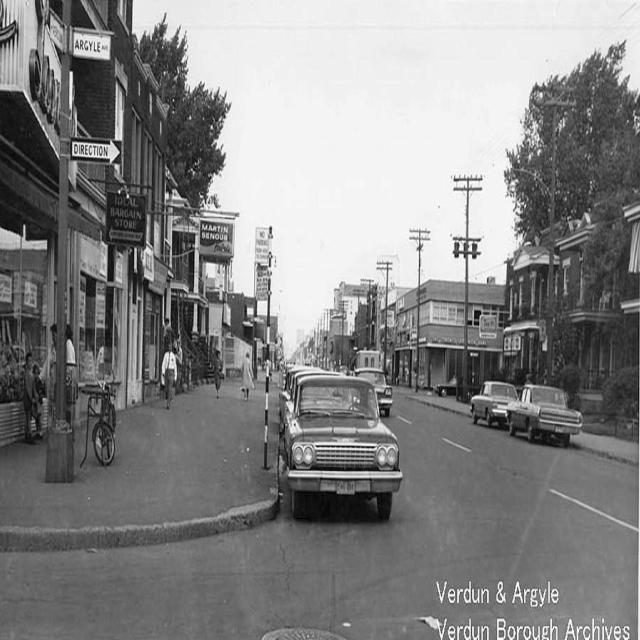car: (504, 376, 582, 446), (466, 378, 518, 428), (350, 364, 390, 410)
